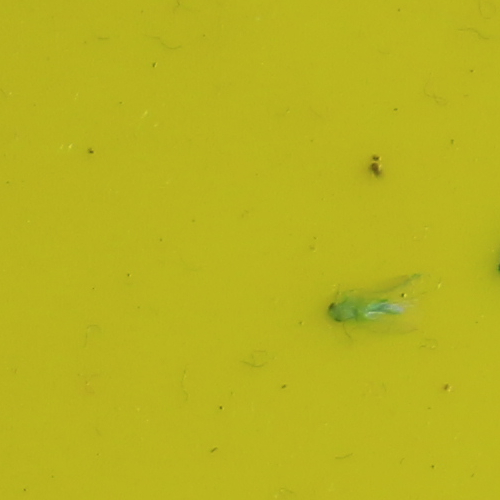cicada: (326, 295, 356, 319)
